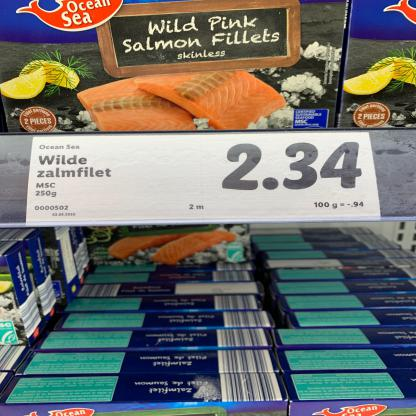prtg: (26, 133, 382, 227)
